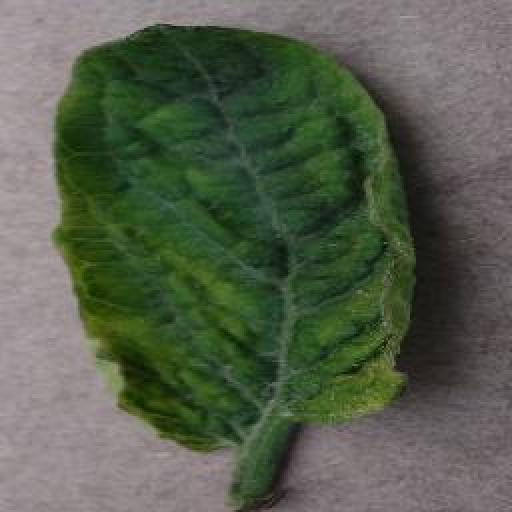disease_tomato: (49, 23, 419, 452)
